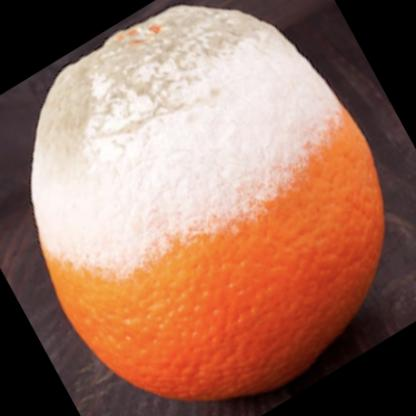rotten: (31, 6, 385, 401)
